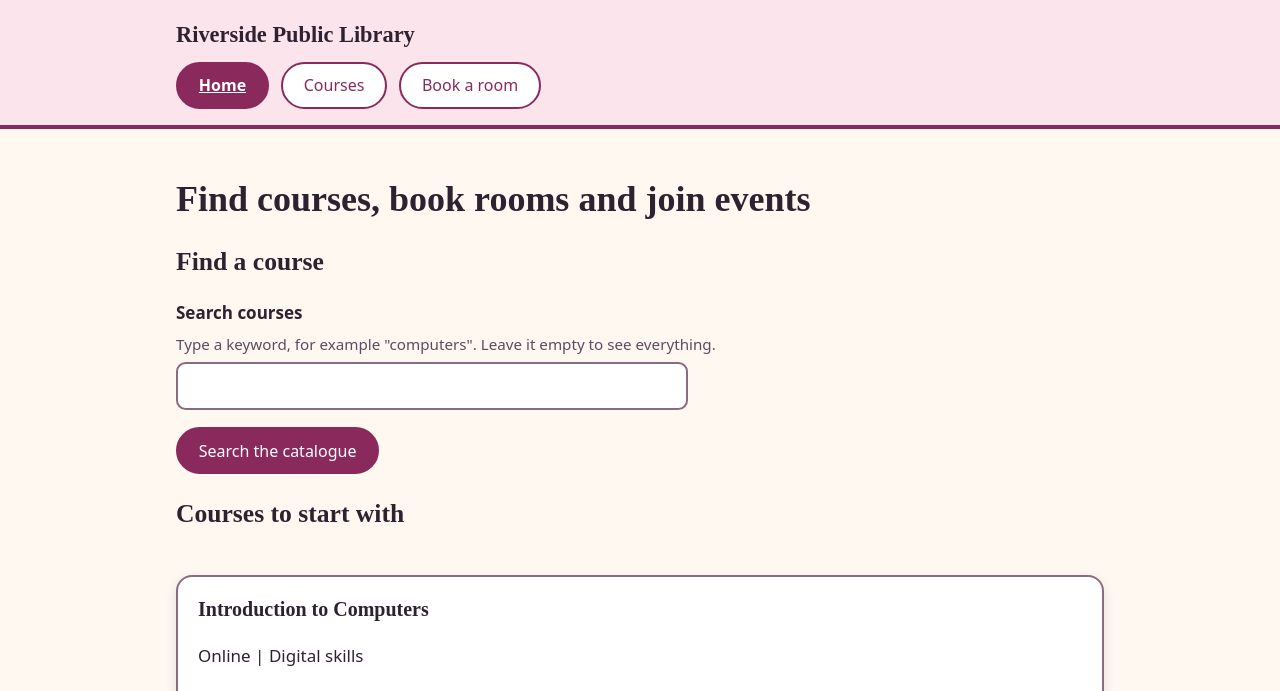
Test: App › lets someone search from Home and lands on the filtered catalogue
Type "spanish" into the search field labelled "Search courses" at (432, 386), box [176, 362, 688, 410]
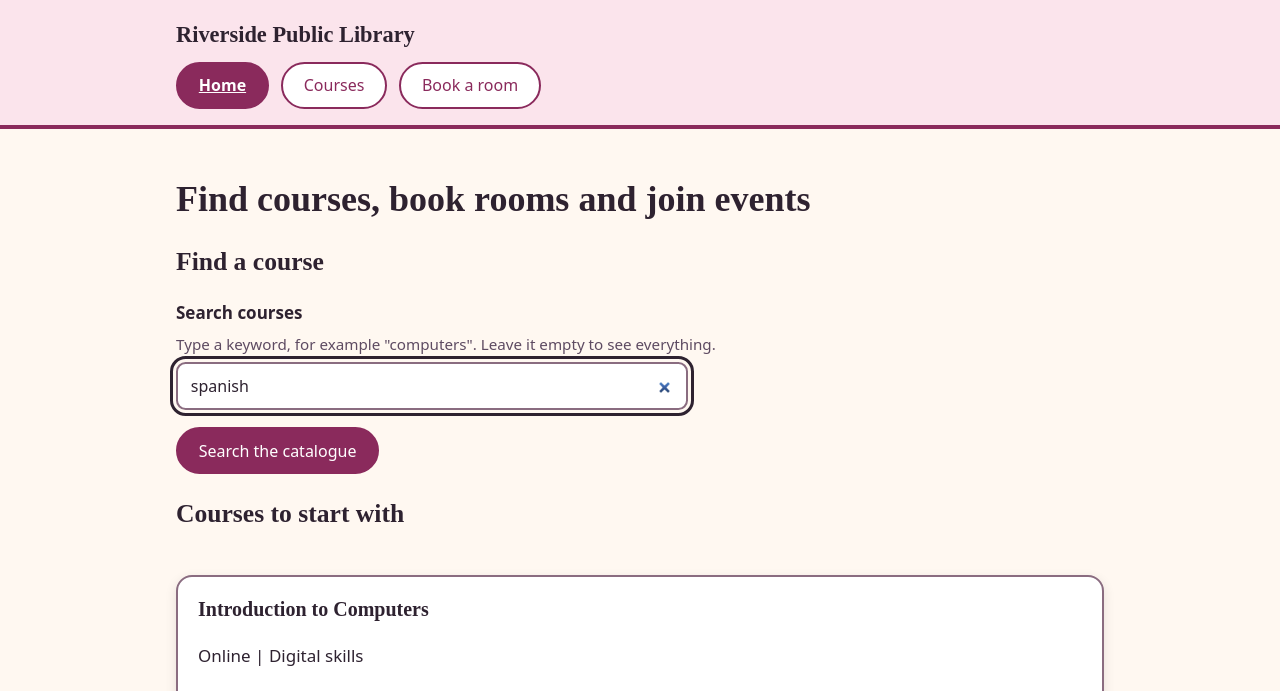
Click the button "Search the catalogue" at (278, 451), box [176, 427, 379, 474]
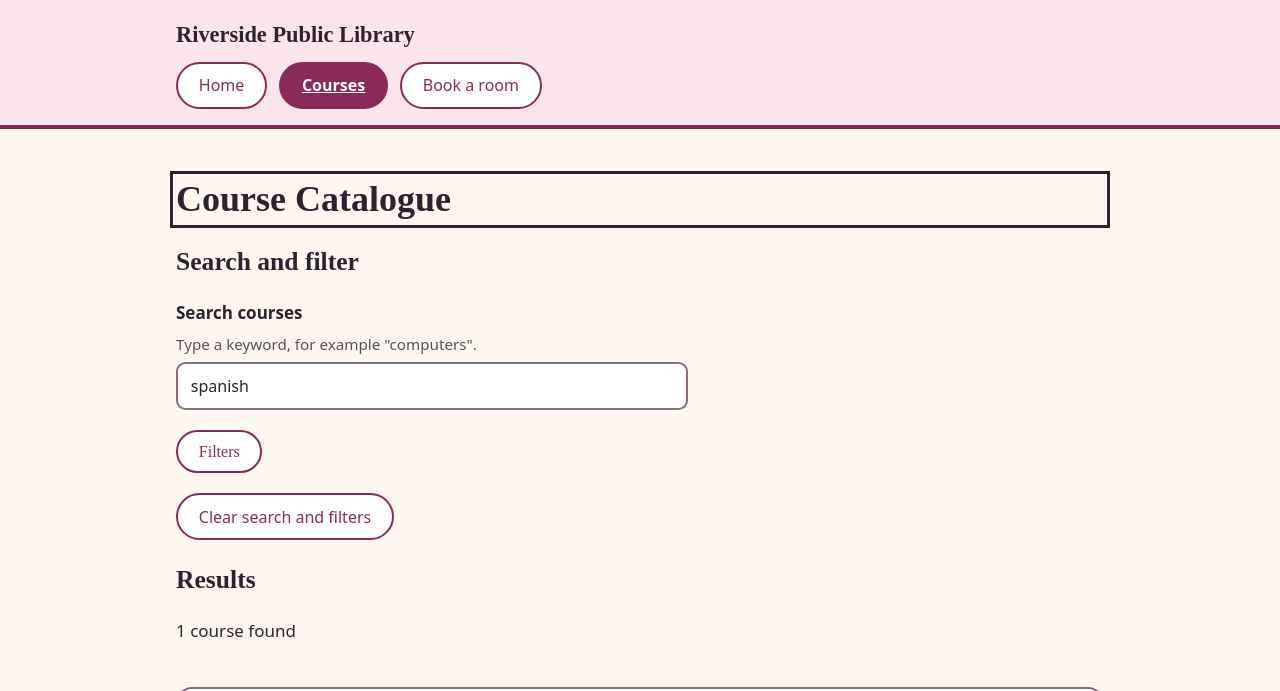
Check: the search field labelled "Search courses" holds "spanish", box [176, 362, 688, 410]
Check: the message reads "1 course found", box [176, 619, 296, 642]
